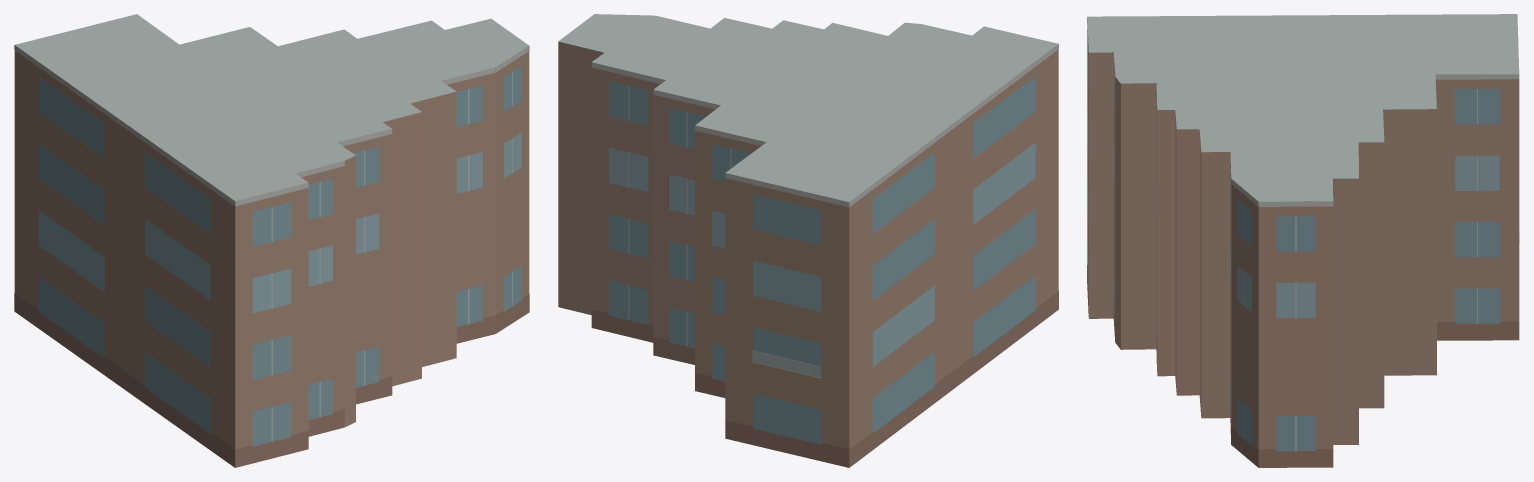
Rendered from survey-upis-32457450.glb.
The picture shows the model from 3 angles, left to right: view 1: azimuth 30°, elevation 25°; view 2: azimuth 150°, elevation 25°; view 3: azimuth 270°, elevation 25°; orthographic projection.
Parts seen in each view (by area): view 1: survey-upis-32457450.tmp; view 2: survey-upis-32457450.tmp; view 3: survey-upis-32457450.tmp.
Boxes of the visible parts, x1,y1,x2,y2 form: survey-upis-32457450.tmp: [14, 14, 529, 467]; survey-upis-32457450.tmp: [558, 14, 1058, 467]; survey-upis-32457450.tmp: [1087, 14, 1519, 467].
Size of the model in its own units: 18.76 by 12.4 by 18.27.
